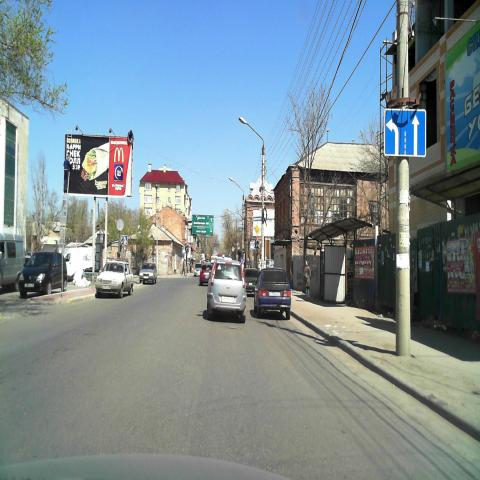5_15_2_2: (384, 108, 426, 158)
